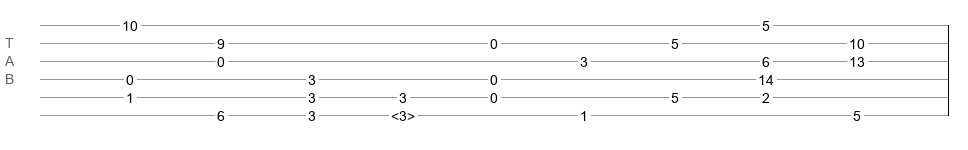0: (126, 72, 134, 82), (217, 54, 225, 64), (490, 90, 498, 100), (490, 36, 498, 46), (490, 72, 498, 82)
1: (126, 90, 134, 100), (580, 108, 588, 118)
10: (122, 18, 138, 28), (849, 36, 865, 46)
13: (849, 54, 865, 64)
14: (758, 72, 774, 82)
2: (762, 90, 770, 100)
3: (308, 108, 316, 118), (308, 90, 316, 100), (308, 72, 316, 82), (399, 90, 407, 100), (580, 54, 588, 64)
5: (671, 90, 679, 100), (671, 36, 679, 46), (762, 18, 770, 28), (853, 108, 861, 118)
6: (217, 108, 225, 118), (762, 54, 770, 64)
9: (217, 36, 225, 46)
harmonic: (391, 108, 415, 118)
